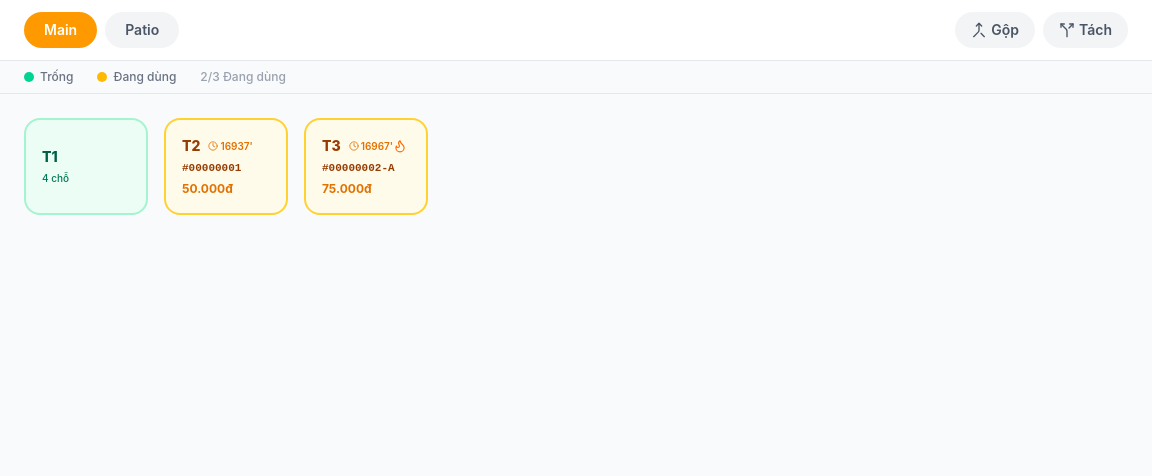
it: OrderClient › selects an occupied table and renders empty orders
The width and height of the screenshot is (1152, 476).
Step 1. Click the button "T2 16937' #00000001 50.000đ" → (226, 166), box left=164, top=118, right=288, bottom=214
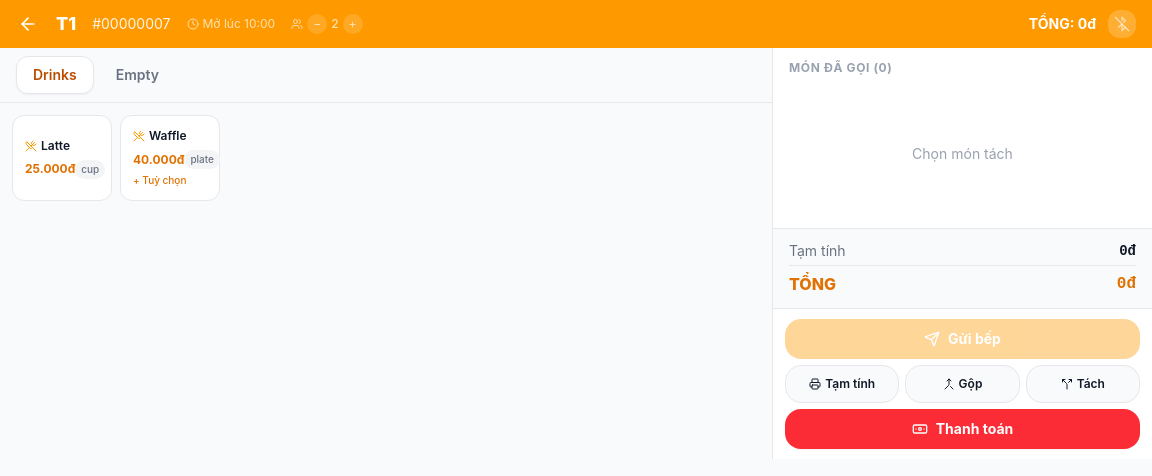
Result: the text "Chọn món tách" is shown at left=912, top=145, right=1013, bottom=162
